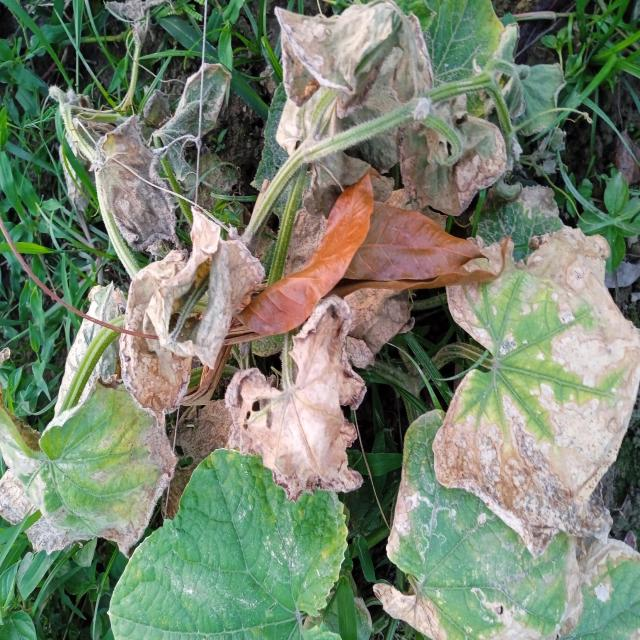cucumber_bacterial: (470, 235, 640, 561), (263, 2, 439, 152), (58, 77, 215, 231), (263, 308, 382, 511), (3, 424, 179, 560), (107, 258, 252, 402)
